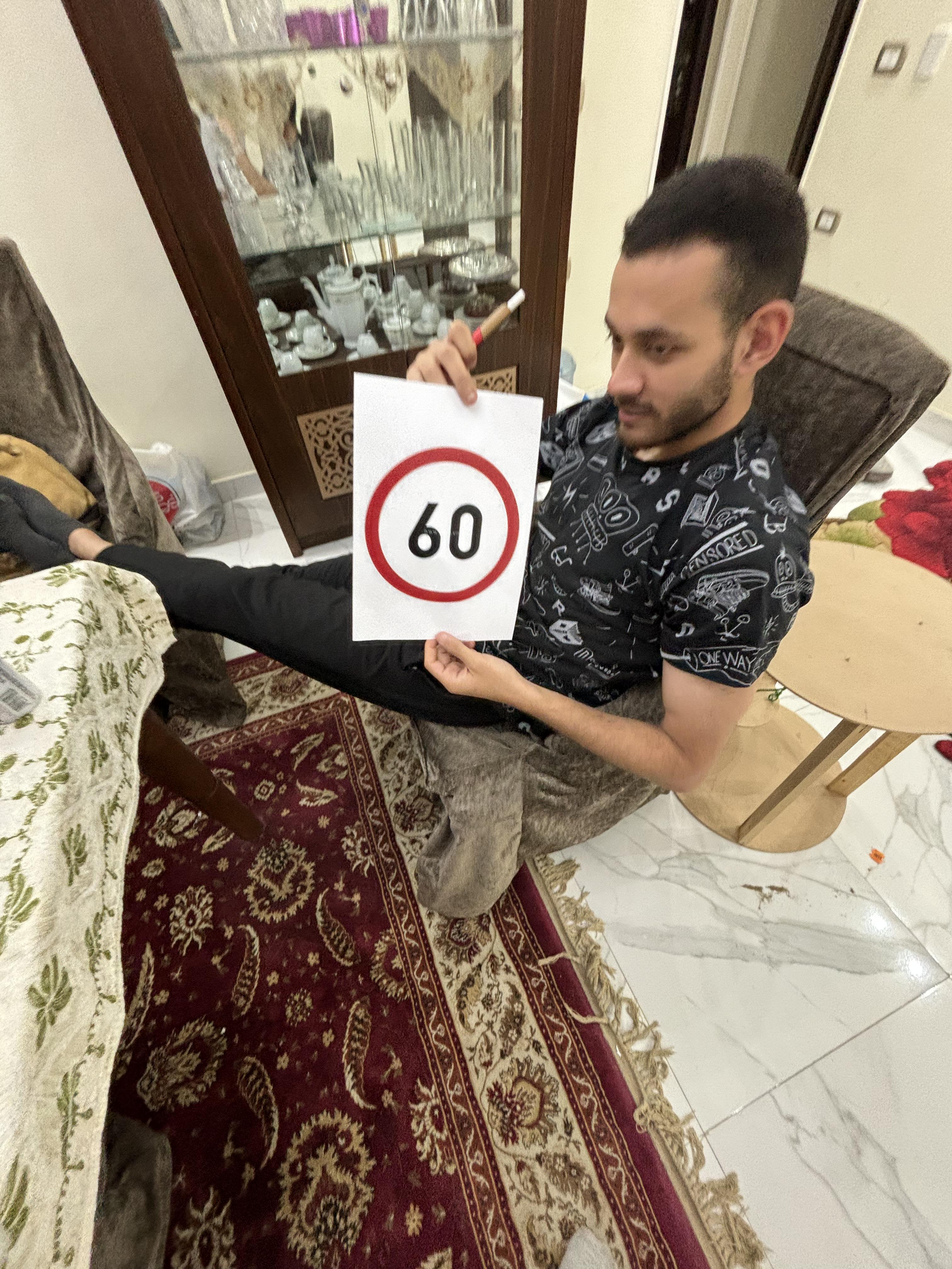60-Speed: (373, 441, 521, 602)
